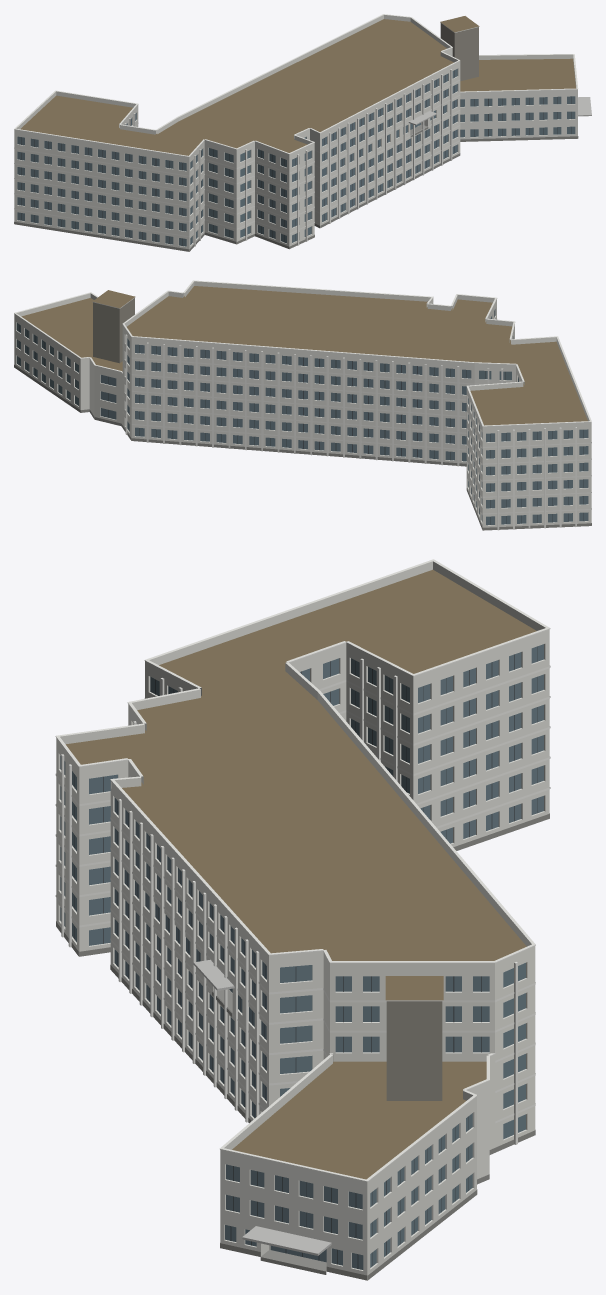
3 views of the same model, one above another, from view 1: azimuth 30°, elevation 25°; view 2: azimuth 150°, elevation 25°; view 3: azimuth 270°, elevation 25° (orthographic). The views are drawn at different scales.
Parts seen in each view (by area): view 1: wonheung__wall, wonheung__roof, wonheung__glass, wonheung__trim, wonheung__parapet, wonheung__frame, wonheung__base, wonheung__wall2, wonheung__canopy; view 2: wonheung__wall, wonheung__roof, wonheung__glass, wonheung__trim, wonheung__parapet, wonheung__base, wonheung__wall2, wonheung__frame; view 3: wonheung__roof, wonheung__wall, wonheung__glass, wonheung__trim, wonheung__parapet, wonheung__wall2, wonheung__base, wonheung__frame, wonheung__canopy.
Part boxes in pixels (x1,y1,x2,y2): wonheung__wall: (14,51,577,251); wonheung__roof: (20,16,575,155); wonheung__glass: (17,69,575,246); wonheung__trim: (14,14,578,246); wonheung__parapet: (14,15,577,160); wonheung__frame: (21,70,571,245); wonheung__base: (14,124,578,251); wonheung__wall2: (440,23,478,81); wonheung__canopy: (408,97,591,125); wonheung__wall: (14,302,591,527); wonheung__roof: (21,286,587,425); wonheung__glass: (16,309,588,525); wonheung__trim: (14,280,591,530); wonheung__parapet: (14,281,591,430); wonheung__base: (14,365,591,530); wonheung__wall2: (93,298,134,363); wonheung__frame: (19,311,583,524); wonheung__roof: (66,569,536,1179); wonheung__wall: (56,636,549,1279); wonheung__glass: (60,644,543,1269); wonheung__trim: (55,559,550,1181); wonheung__parapet: (56,561,549,1189); wonheung__wall2: (386,1001,442,1100); wonheung__base: (56,813,549,1280); wonheung__frame: (74,646,537,1268); wonheung__canopy: (193,959,331,1255).
Bounding box in the file's own units: 136 × 23.2 × 53.21.
